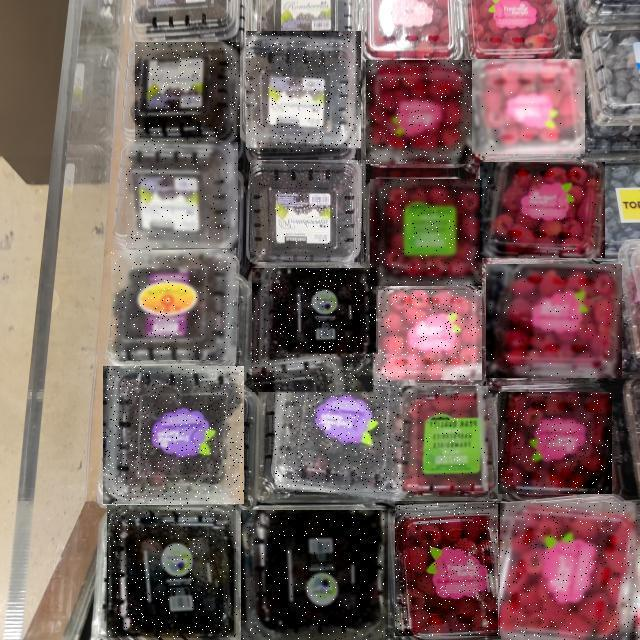Black Berries: (276, 355, 420, 493), (103, 366, 244, 504), (242, 510, 390, 640), (108, 506, 238, 640), (252, 269, 376, 393), (246, 32, 361, 152), (112, 250, 236, 360), (126, 142, 238, 248), (250, 160, 366, 262), (135, 42, 240, 144)
Rasp Berries: (502, 503, 640, 640), (486, 264, 622, 378), (396, 501, 504, 636), (480, 162, 605, 258), (370, 179, 482, 286), (498, 393, 612, 495), (366, 60, 472, 164), (472, 60, 585, 156), (379, 290, 483, 380), (406, 386, 492, 491)
